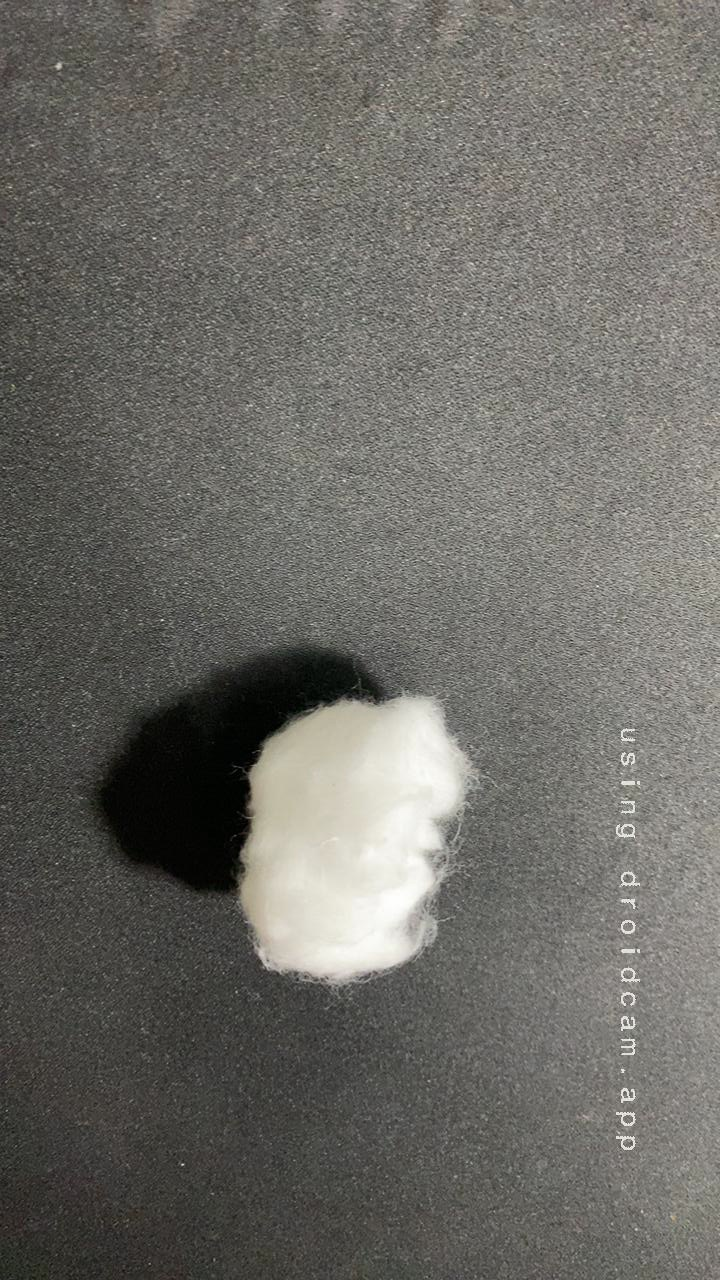cotton: (204, 660, 511, 1002)
